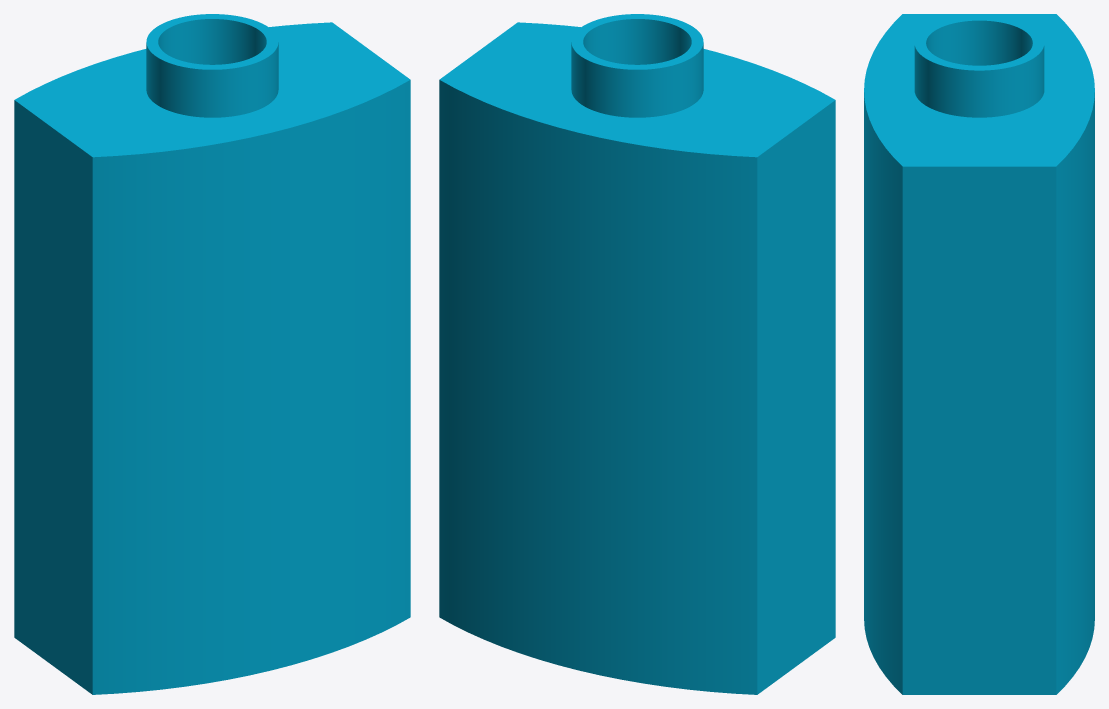
File: bottle.glb
The picture shows the model from 3 angles, left to right: view 1: azimuth 30°, elevation 25°; view 2: azimuth 150°, elevation 25°; view 3: azimuth 270°, elevation 25°; orthographic projection.
Bounding box in the file's own units: 0.125 × 0.22 × 0.08.
